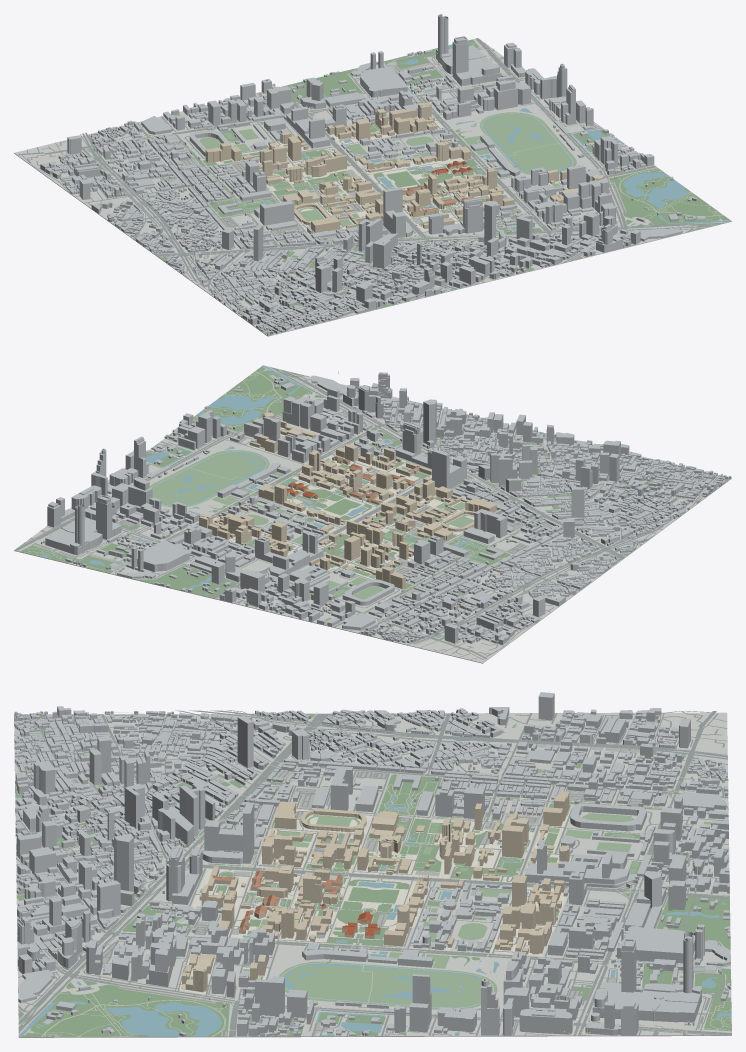
The model's file is chula_detailed_v3_web.glb.
The picture shows the model from 3 angles, top to bottom: view 1: azimuth 30°, elevation 25°; view 2: azimuth 150°, elevation 25°; view 3: azimuth 270°, elevation 25°; orthographic projection. The views are drawn at different scales.
Visible parts, largest first — view 1: ground_expanded, network_road_0, network_path_0, context_way_23643241, context_way_23483299__Lumphini Park, ContextTile_3_3_context_building, ContextTile_1_3_context_building, ContextTile_-4_-4_context_building, ContextTile_-2_-4_context_building, ContextTile_2_-3_context_building, network_road_2, campus_precinct_5 (+64 smaller); view 2: ground_expanded, network_road_0, network_path_0, context_way_23643241, context_way_23483299__Lumphini Park, ContextTile_3_3_context_building, campus_precinct_5, ContextTile_-4_-4_context_building, ContextTile_1_3_context_building, network_road_2, ContextTile_2_-3_context_building, ContextTile_-3_1_context_building (+69 smaller); view 3: ground_expanded, network_road_0, network_path_0, context_way_23643241, context_way_23483299__Lumphini Park, campus_precinct_5, ContextTile_3_3_context_building, campus_precinct_7, ContextTile_1_3_context_building, network_road_2, ContextTile_4_-2_context_building, ContextTile_-2_-4_context_building (+87 smaller).
Part boxes in pixels (left/top/right/bottom): ground_expanded: left=14, top=39, right=731, bottom=336; network_road_0: left=27, top=38, right=726, bottom=335; network_path_0: left=62, top=39, right=727, bottom=332; context_way_23643241: left=479, top=112, right=576, bottom=174; context_way_23483299__Lumphini Park: left=613, top=167, right=730, bottom=224; ContextTile_3_3_context_building: left=420, top=36, right=501, bottom=86; ContextTile_1_3_context_building: left=323, top=66, right=407, bottom=113; ContextTile_-4_-4_context_building: left=281, top=255, right=345, bottom=304; ContextTile_-2_-4_context_building: left=373, top=239, right=437, bottom=282; ContextTile_2_-3_context_building: left=528, top=178, right=608, bottom=216; network_road_2: left=80, top=132, right=686, bottom=292; campus_precinct_5: left=364, top=157, right=517, bottom=231; ground_expanded: left=14, top=366, right=731, bottom=663; network_road_0: left=14, top=366, right=729, bottom=660; network_path_0: left=18, top=366, right=718, bottom=646; context_way_23643241: left=149, top=450, right=269, bottom=507; context_way_23483299__Lumphini Park: left=193, top=366, right=301, bottom=430; ContextTile_3_3_context_building: left=45, top=495, right=130, bottom=556; campus_precinct_5: left=256, top=454, right=431, bottom=525; ContextTile_-4_-4_context_building: left=580, top=452, right=652, bottom=497; ContextTile_1_3_context_building: left=137, top=540, right=237, bottom=577; network_road_2: left=295, top=376, right=675, bottom=644; ContextTile_2_-3_context_building: left=283, top=396, right=346, bottom=449; ContextTile_-3_1_context_building: left=403, top=540, right=474, bottom=585; ground_expanded: left=14, top=712, right=731, bottom=1037; network_road_0: left=14, top=713, right=731, bottom=1036; network_path_0: left=14, top=714, right=731, bottom=1036; context_way_23643241: left=279, top=961, right=497, bottom=1009; context_way_23483299__Lumphini Park: left=22, top=989, right=229, bottom=1036; campus_precinct_5: left=191, top=869, right=429, bottom=947; ContextTile_3_3_context_building: left=592, top=938, right=701, bottom=1022; campus_precinct_7: left=257, top=809, right=534, bottom=882; ContextTile_1_3_context_building: left=595, top=902, right=695, bottom=963; network_road_2: left=34, top=710, right=727, bottom=1006; ContextTile_4_-2_context_building: left=237, top=976, right=307, bottom=1036; ContextTile_-2_-4_context_building: left=68, top=784, right=151, bottom=849.
Size of the model in its own units: 2502 by 241 by 2339.
